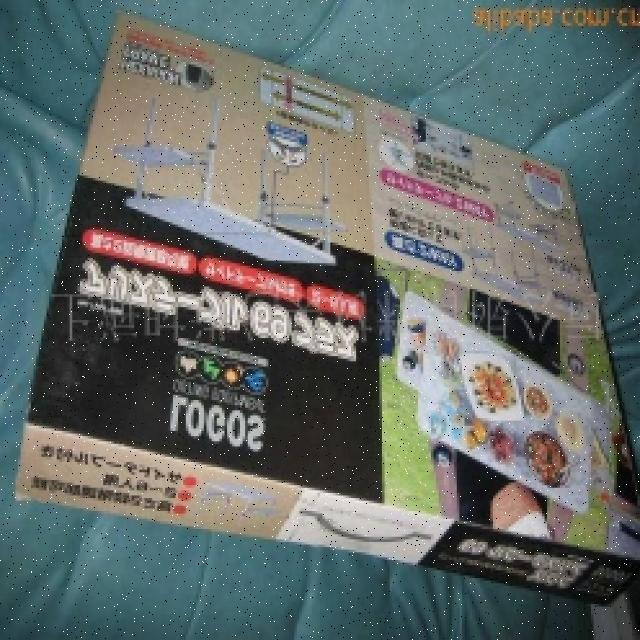box: (20, 8, 640, 620)
